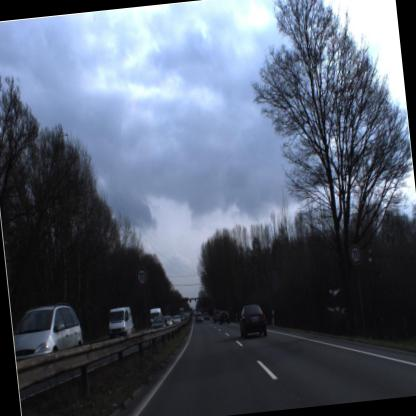prohibitory: (132, 263, 150, 288), (346, 242, 363, 266)
